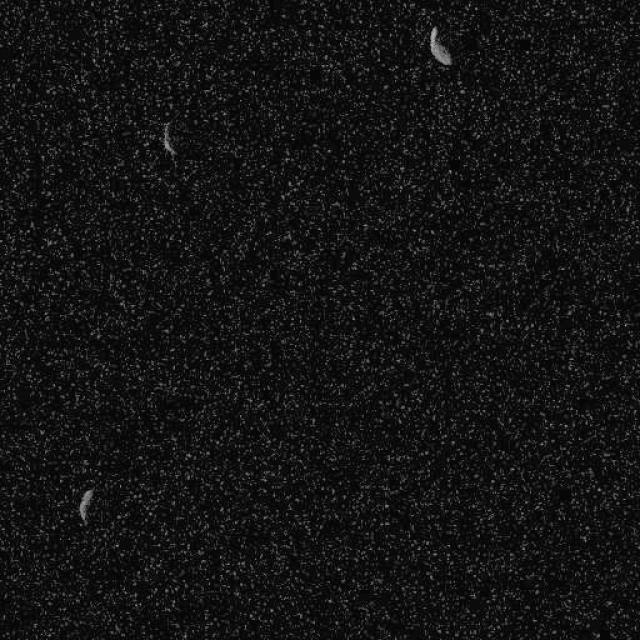D2: (428, 25, 452, 66), (160, 120, 178, 159), (77, 487, 95, 525)
